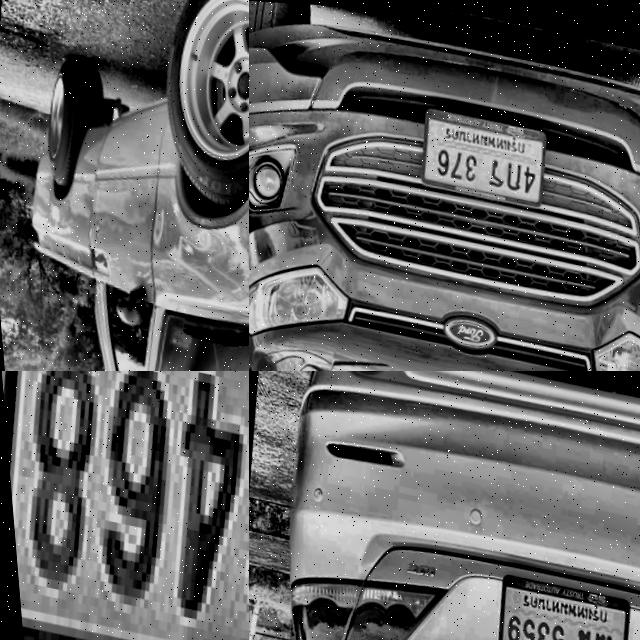license-plate: (0, 371, 249, 640), (408, 98, 551, 207), (484, 568, 632, 640)
